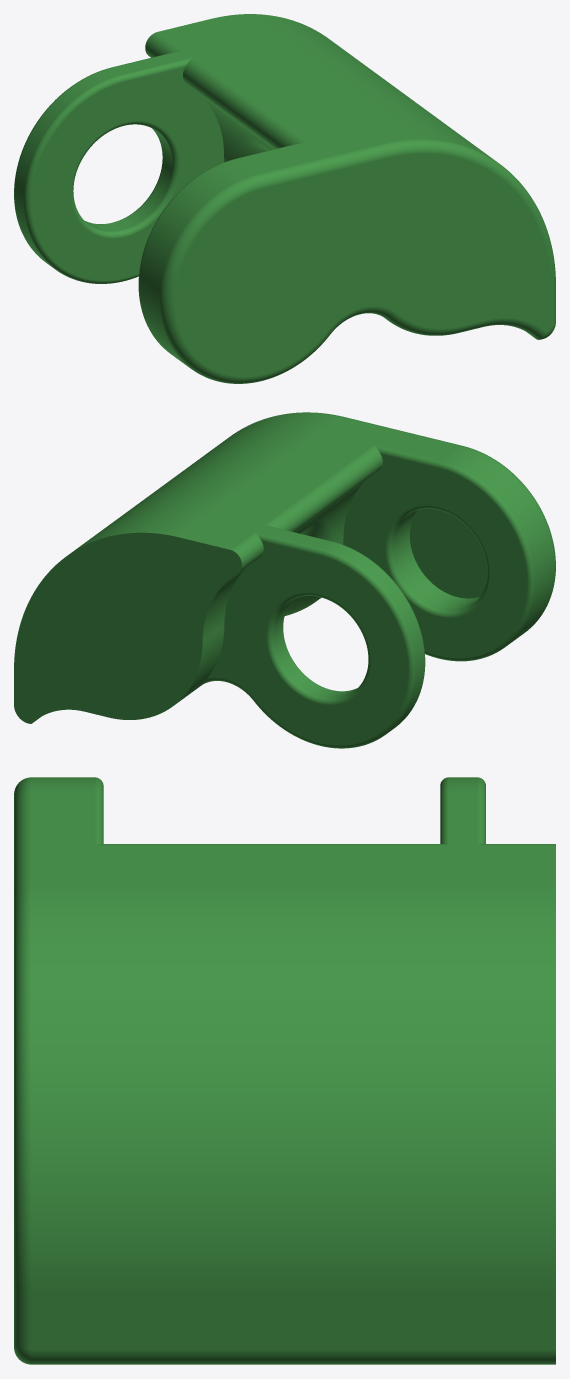
The model's file is SolidSpitSmolV5 v90_SolidSpitSmolV5 v90_Component11_1_Cap_1_Body1_Cap.obj.
The picture shows the model from 3 angles, top to bottom: view 1: azimuth 30°, elevation 25°; view 2: azimuth 150°, elevation 25°; view 3: azimuth 270°, elevation 25°; orthographic projection. The views are drawn at different scales.
Parts seen in each view (by area): view 1: Body1; view 2: Body1; view 3: Body1.
Part boxes in pixels (box(x1,y1,x2,y2)): Body1: box(14, 14, 555, 383); Body1: box(14, 412, 555, 748); Body1: box(14, 777, 555, 1364).
Bounding box in the file's own units: 32 × 18.08 × 24.8.
